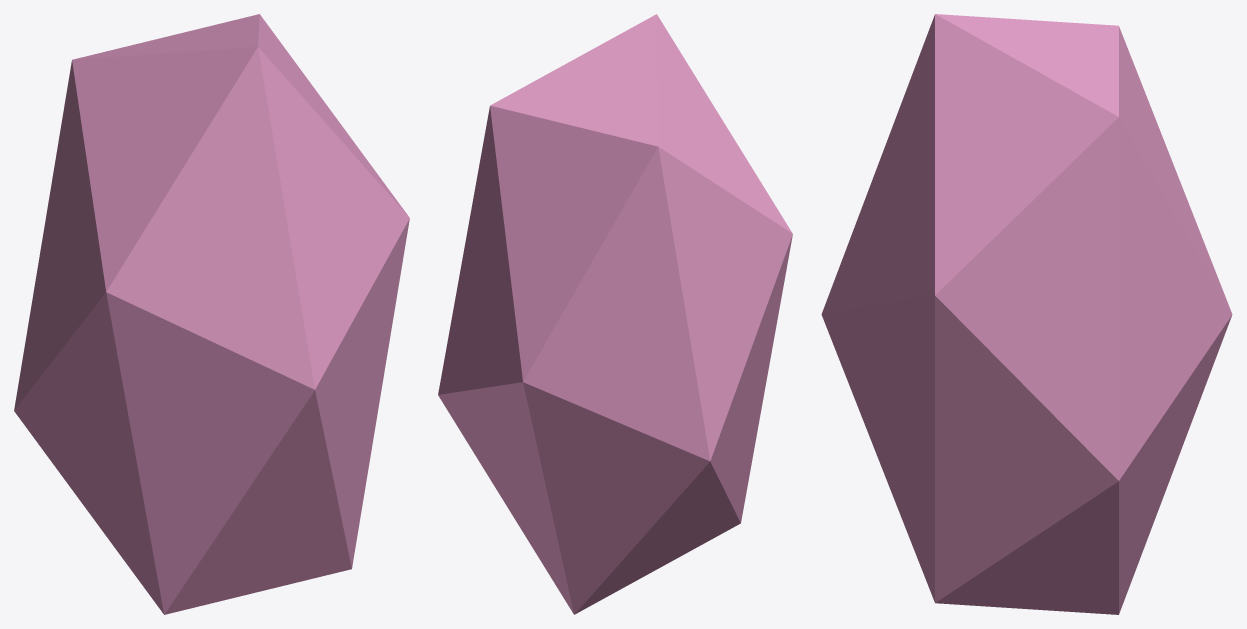
Rendered from turret1_bullet.fbx.
The picture shows the model from 3 angles, left to right: view 1: azimuth 30°, elevation 25°; view 2: azimuth 150°, elevation 25°; view 3: azimuth 270°, elevation 25°; orthographic projection. The views are drawn at different scales.
Parts seen in each view (by area): view 1: turret1_bullet; view 2: turret1_bullet; view 3: turret1_bullet.
Boxes of the visible parts, x1,y1,x2,y2 form: turret1_bullet: (14,14,409,614); turret1_bullet: (438,14,792,614); turret1_bullet: (821,14,1232,614).
Bounding box in the file's own units: 0.0795 × 0.1508 × 0.0935.
